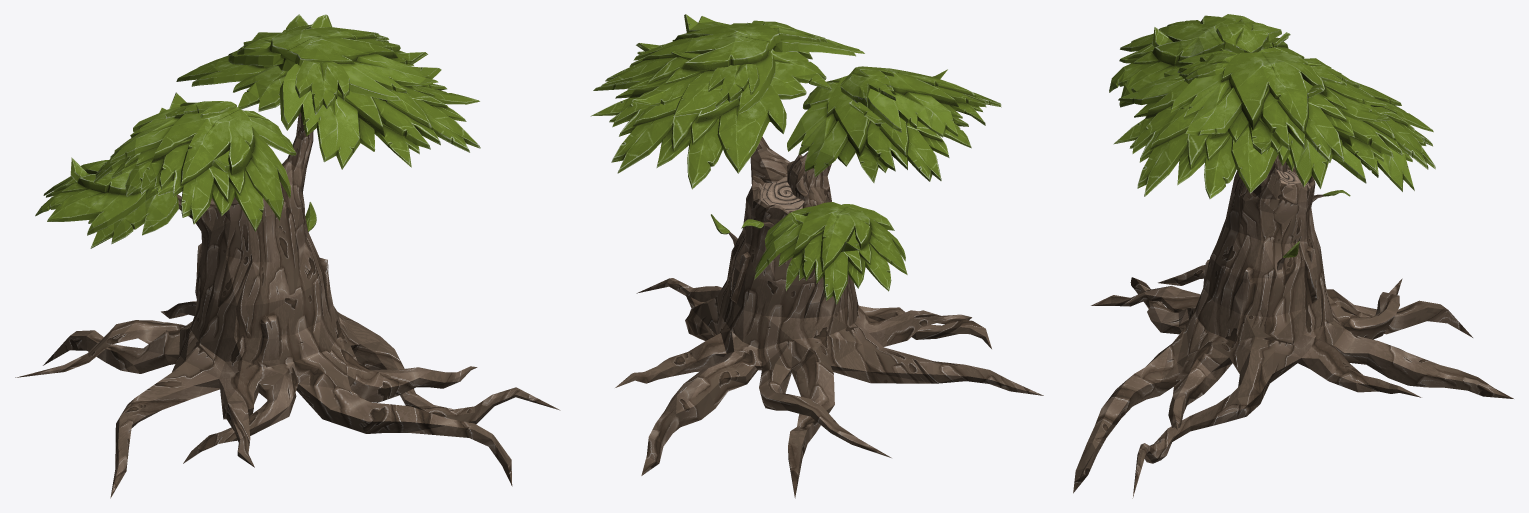
Rendered from Tree02.gltf.
3 renders of one model, left to right at view 1: azimuth 30°, elevation 25°; view 2: azimuth 150°, elevation 25°; view 3: azimuth 270°, elevation 25°, orthographic. The views are drawn at different scales.
Bounding box in the file's own units: 10.51 × 9.12 × 9.49.
3 materials, 3 textured.
